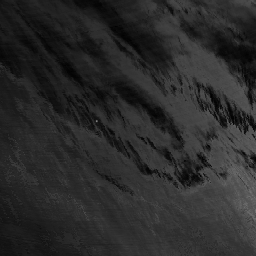Target: (93, 119, 99, 124)
